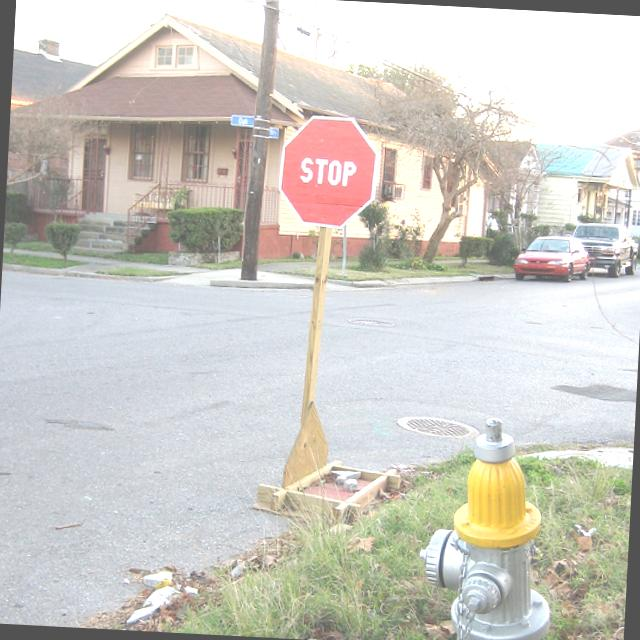Vehicle: (567, 221, 640, 278), (512, 233, 592, 284)
